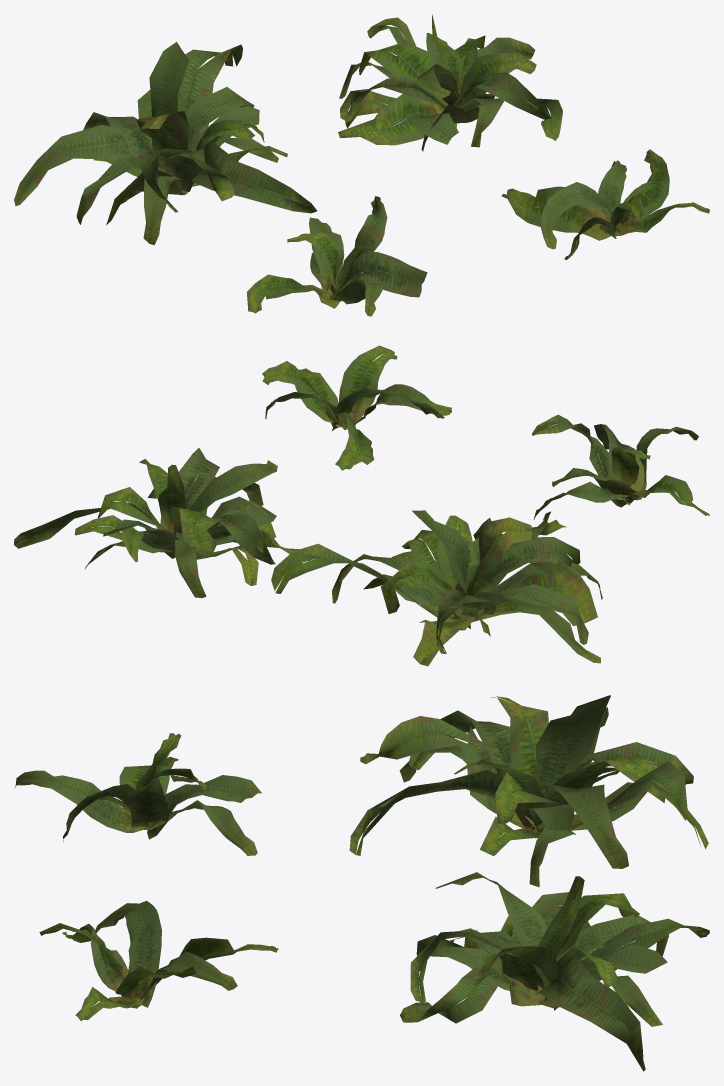
The model's file is fern_02_leaf.glb.
3 views of the same model, one above another, from view 1: azimuth 30°, elevation 25°; view 2: azimuth 150°, elevation 25°; view 3: azimuth 270°, elevation 25° (orthographic). The views are drawn at different scales.
Visible parts, largest first — view 1: fern_02_b, fern_02_c, fern_02_d, fern_02_a; view 2: fern_02_b, fern_02_c, fern_02_d, fern_02_a; view 3: fern_02_b, fern_02_c, fern_02_a, fern_02_d.
Boxes of the visible parts, box(x1,y1,x2,y2) form: fern_02_b: box(14, 42, 317, 245); fern_02_c: box(338, 14, 562, 151); fern_02_d: box(501, 149, 709, 259); fern_02_a: box(246, 196, 427, 316); fern_02_b: box(271, 510, 602, 666); fern_02_c: box(14, 448, 310, 597); fern_02_d: box(262, 345, 451, 470); fern_02_a: box(532, 414, 709, 519); fern_02_b: box(349, 695, 708, 887); fern_02_c: box(400, 872, 709, 1071); fern_02_a: box(14, 733, 261, 855); fern_02_d: box(39, 900, 278, 1020).
Bounding box in the file's own units: 1.97 × 0.434 × 1.72.
1 material, 1 textured.
